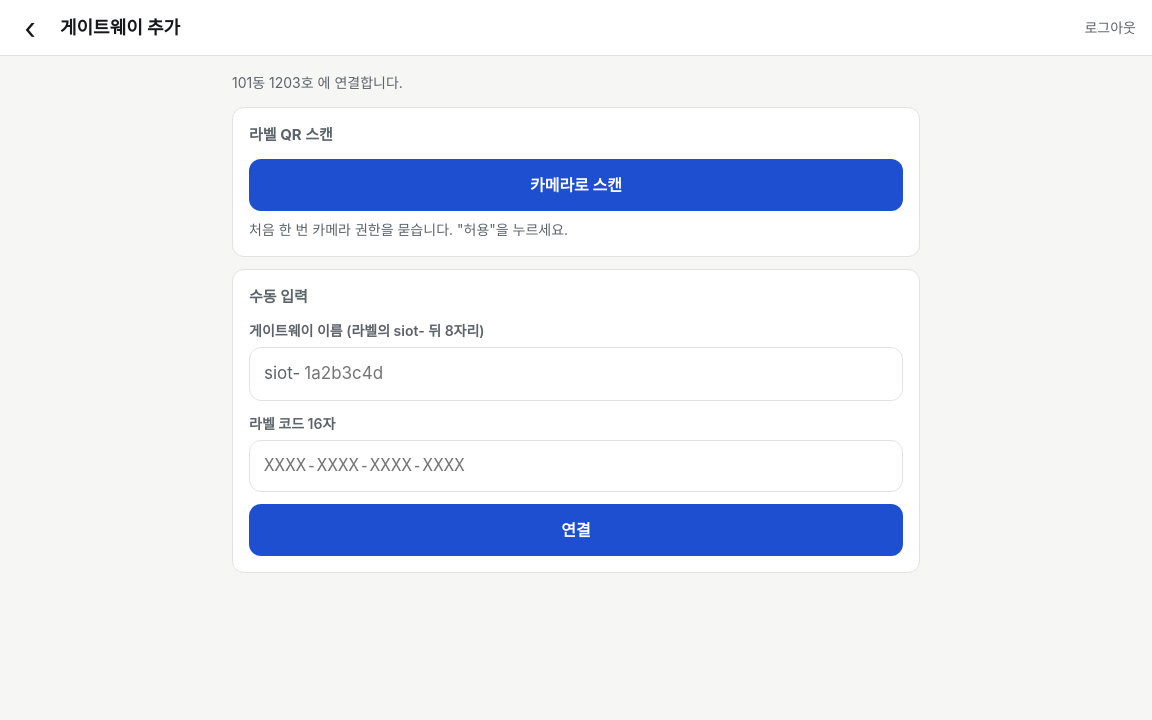
GW 바인딩 수동 입력과 오류 문구 (B2) › 성공하면 연결됨 + 세대에 GW 가 붙는다
The image size is (1152, 720).
In the field labelled "게이트웨이 이름 (라벨의 siot- 뒤 8자리) siot-": (603, 374) [304,348,902,400], type "siot-3f9a2c71"
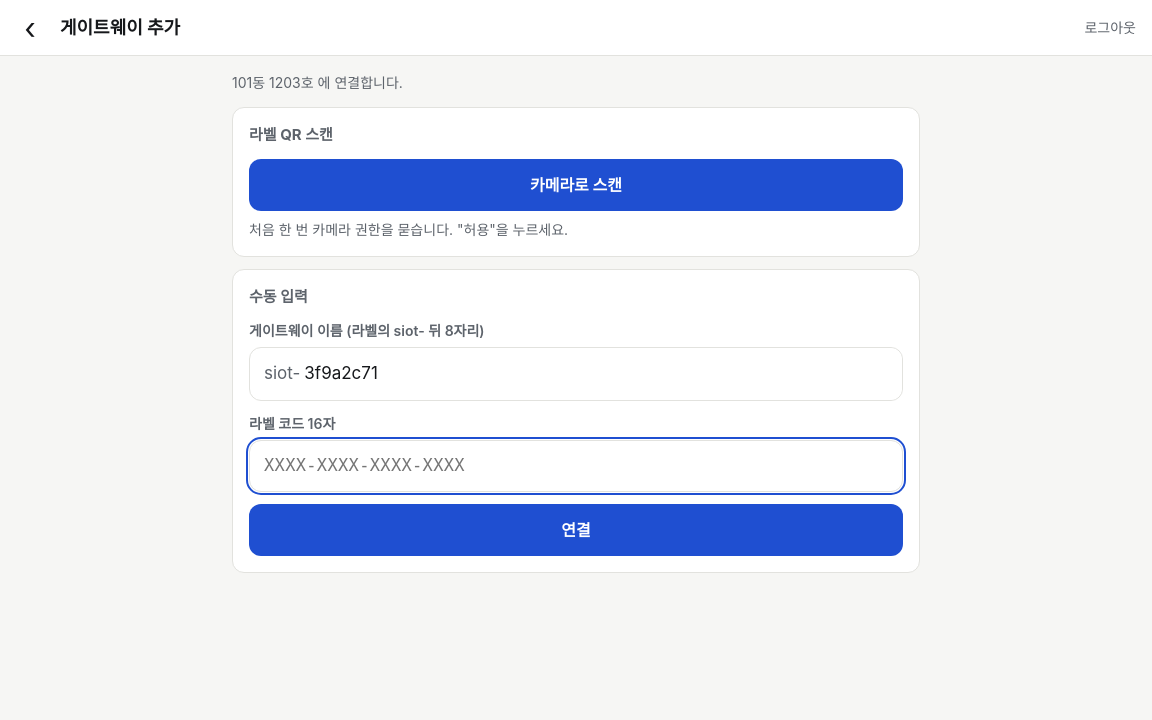
In the field labelled "라벨 코드 16자": (576, 466) [249,440,903,492], type "9C2E41AB77D05E18"
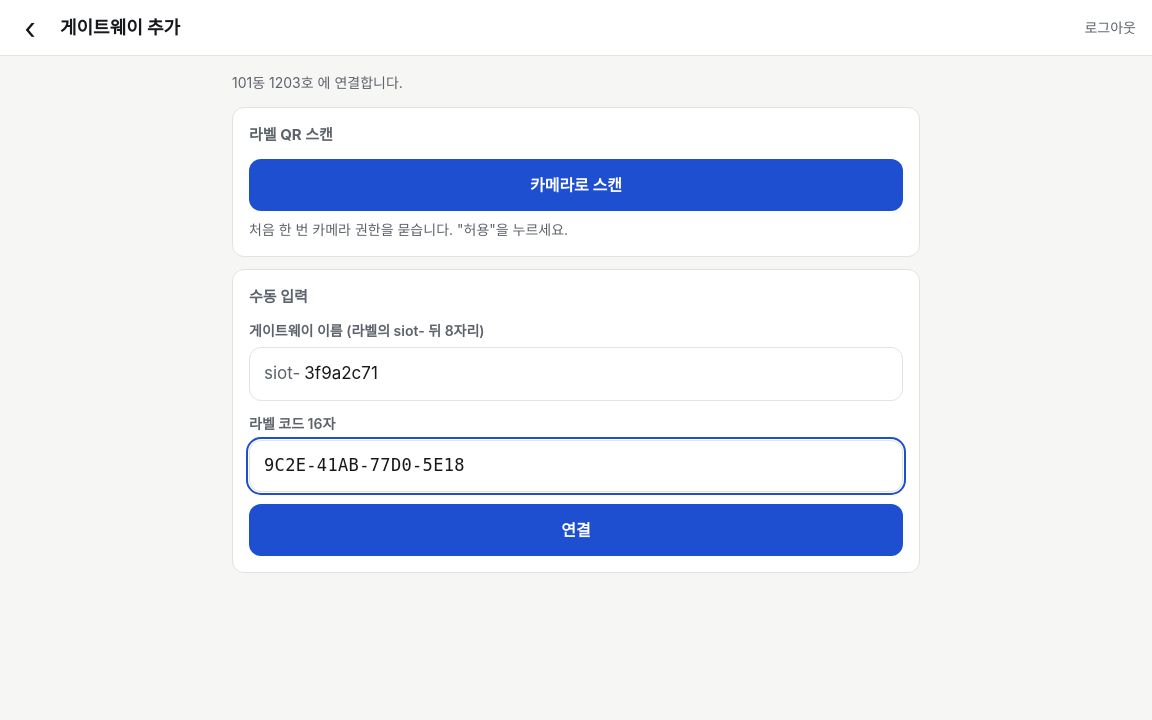
Click the button "연결": (576, 530) [249,504,903,556]
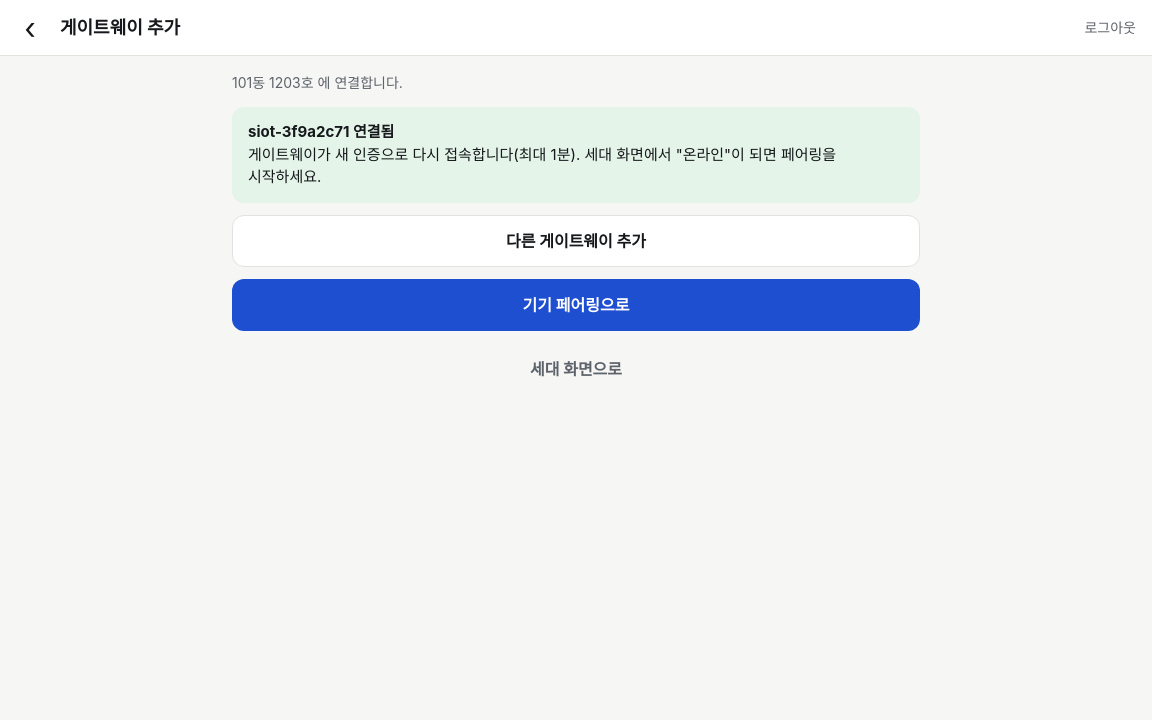
Expected: the text "siot-3f9a2c71 연결됨" is shown, [248,122,394,141]
